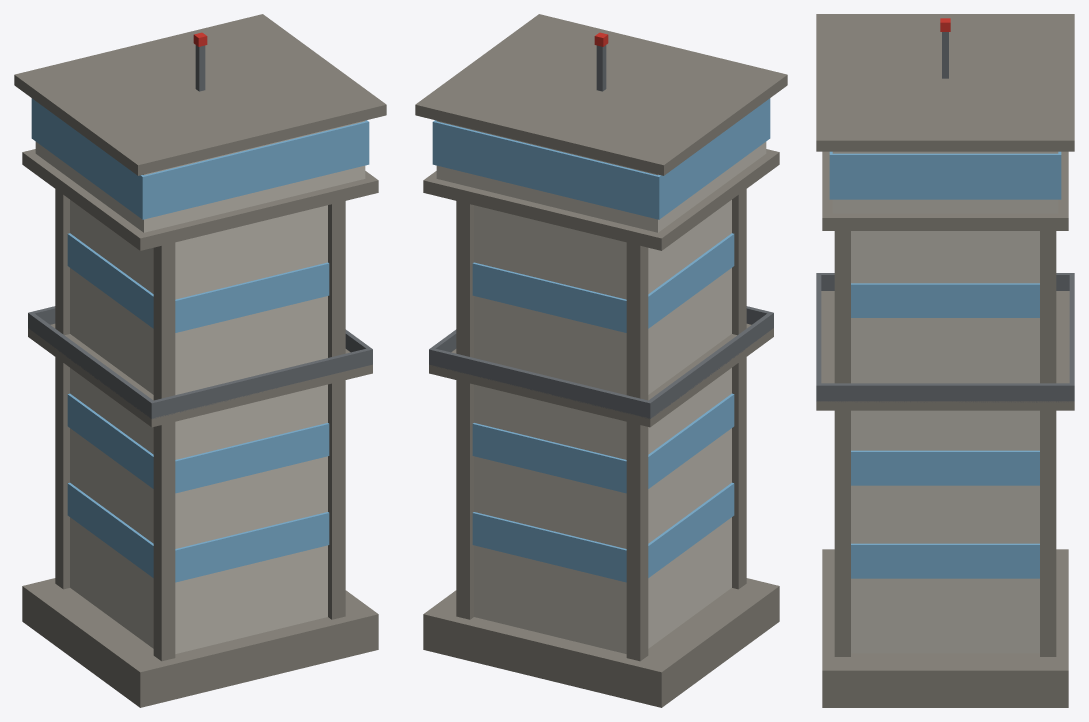
Rendered from raceControlTower.glb.
The picture shows the model from 3 angles, left to right: view 1: azimuth 30°, elevation 25°; view 2: azimuth 150°, elevation 25°; view 3: azimuth 270°, elevation 25°; orthographic projection. The views are drawn at different scales.
Visible parts, largest first — view 1: raceControlTower_concreteDark, raceControlTower_concrete, raceControlTower_glass, raceControlTower_steel; view 2: raceControlTower_concreteDark, raceControlTower_concrete, raceControlTower_glass, raceControlTower_steel; view 3: raceControlTower_concreteDark, raceControlTower_concrete, raceControlTower_glass, raceControlTower_steel.
Boxes of the visible parts, box(x1,y1,x2,y2) form: raceControlTower_concreteDark: box(14, 14, 386, 707); raceControlTower_concrete: box(35, 120, 365, 653); raceControlTower_glass: box(31, 98, 369, 582); raceControlTower_steel: box(28, 45, 372, 419); raceControlTower_concreteDark: box(415, 14, 787, 707); raceControlTower_concrete: box(436, 120, 766, 653); raceControlTower_glass: box(432, 98, 770, 582); raceControlTower_steel: box(429, 45, 773, 419); raceControlTower_concreteDark: box(816, 14, 1074, 707); raceControlTower_concrete: box(832, 151, 1058, 653); raceControlTower_glass: box(829, 151, 1061, 578); raceControlTower_steel: box(816, 32, 1074, 402).
Bounding box in the file's own units: 14.6 × 33.7 × 12.6.
